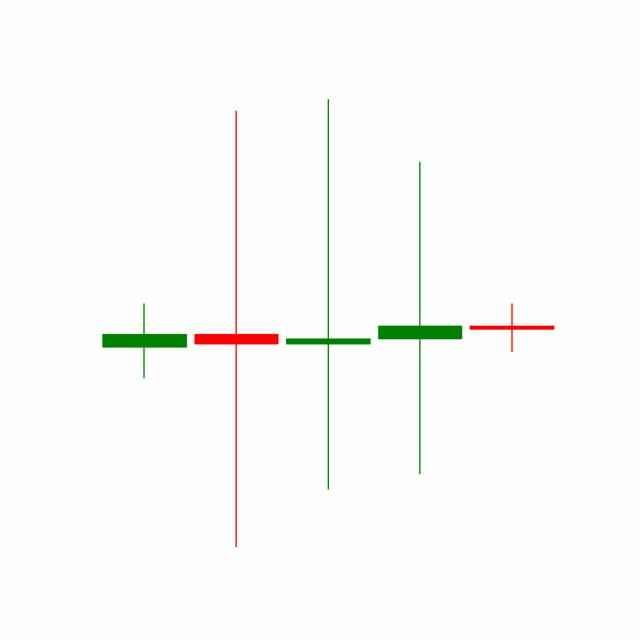Spinning Top: (464, 302, 558, 353)
